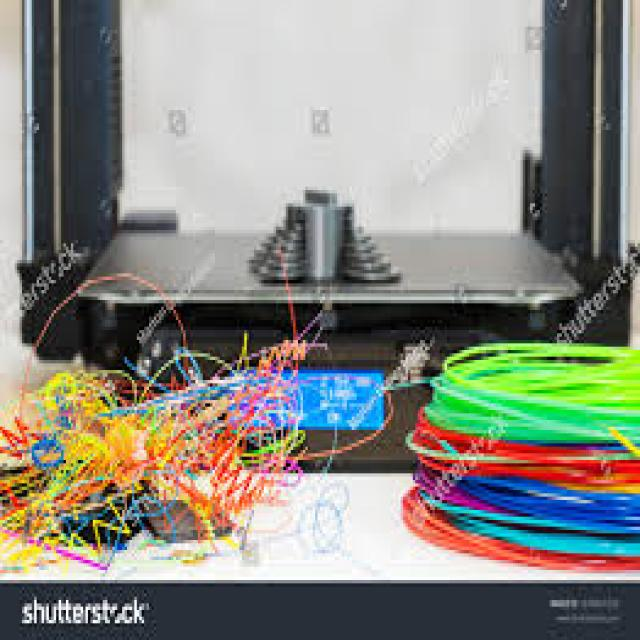spaghetti: (14, 165, 290, 568)
